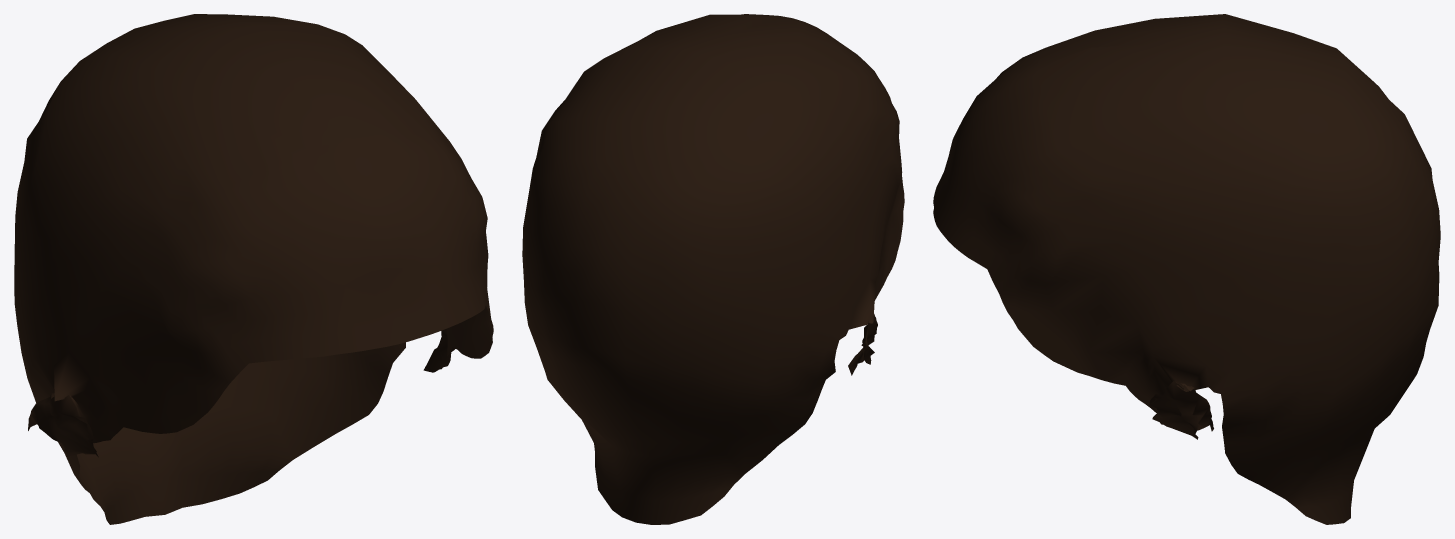
Rendered from hair_buzz.glb.
The picture shows the model from 3 angles, left to right: view 1: azimuth 30°, elevation 25°; view 2: azimuth 150°, elevation 25°; view 3: azimuth 270°, elevation 25°; orthographic projection. The views are drawn at different scales.
Parts seen in each view (by area): view 1: hair_buzz; view 2: hair_buzz; view 3: hair_buzz.
Boxes of the visible parts, <box> form: hair_buzz: <box>14,14,493,524</box>; hair_buzz: <box>522,14,904,524</box>; hair_buzz: <box>933,14,1440,524</box>.
Bounding box in the file's own units: 0.1834 × 0.223 × 0.2166.
